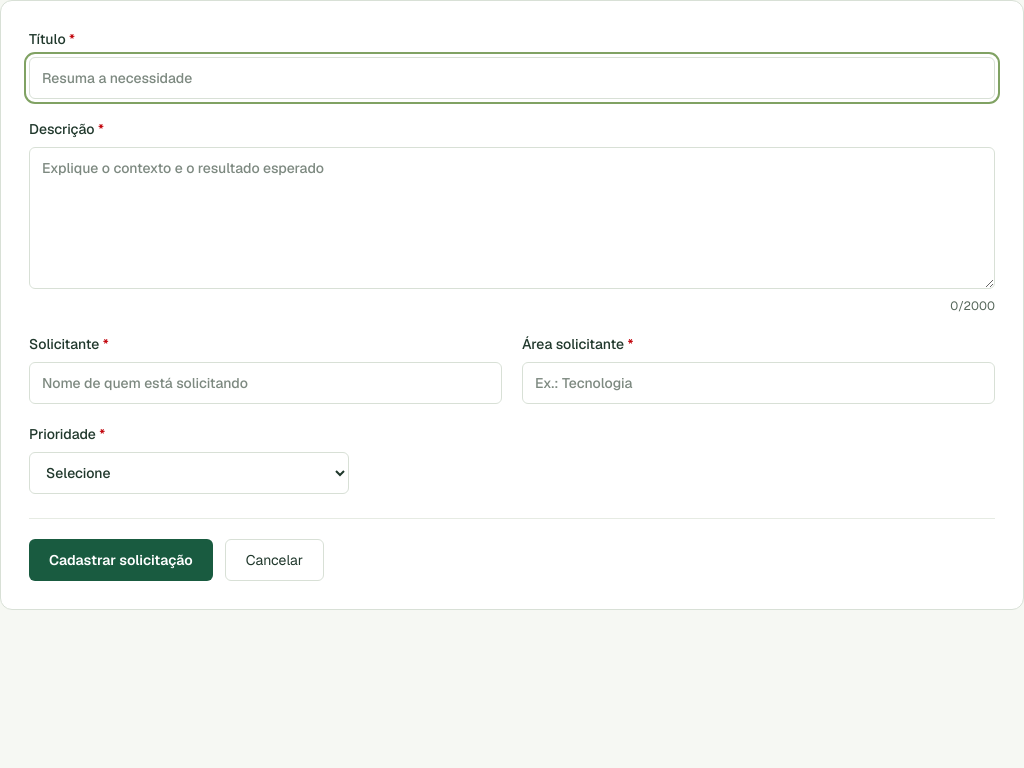
FormularioSolicitacao › associa os erros aos campos e move o foco para o primeiro inválido
Click the button "Cadastrar solicitação" at point(121, 560), box [29, 539, 213, 581]
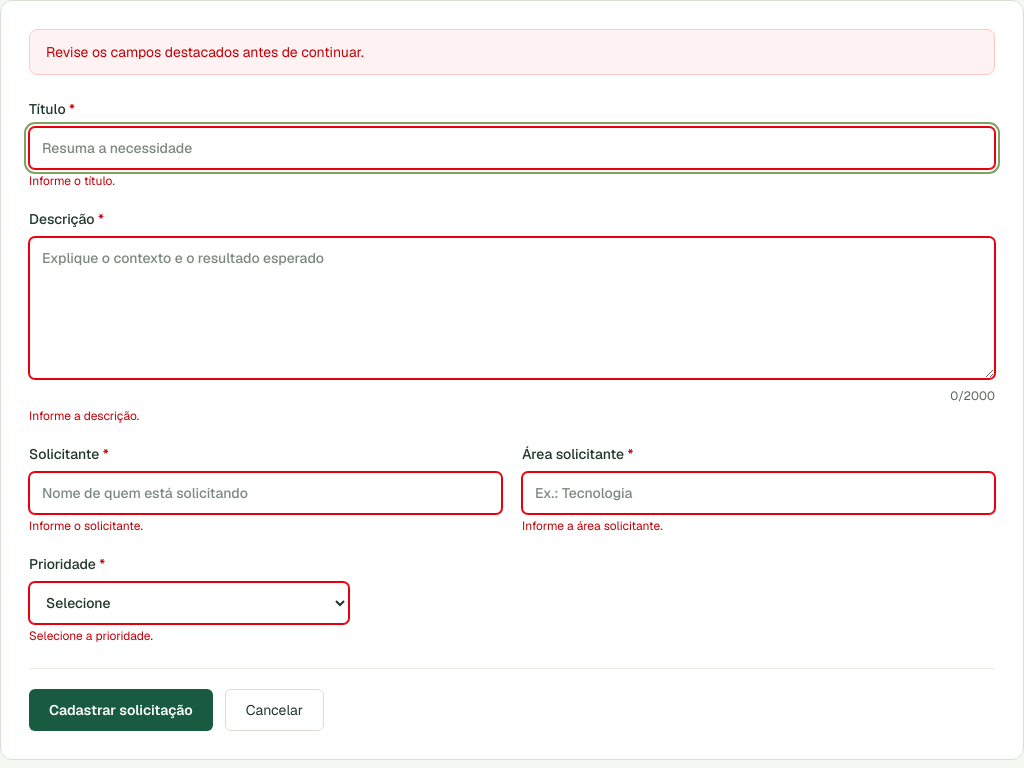
Now the message shows "Revise os campos destacados", box [46, 43, 364, 61]
Now the text "Informe o título." is shown, box [29, 173, 115, 189]
